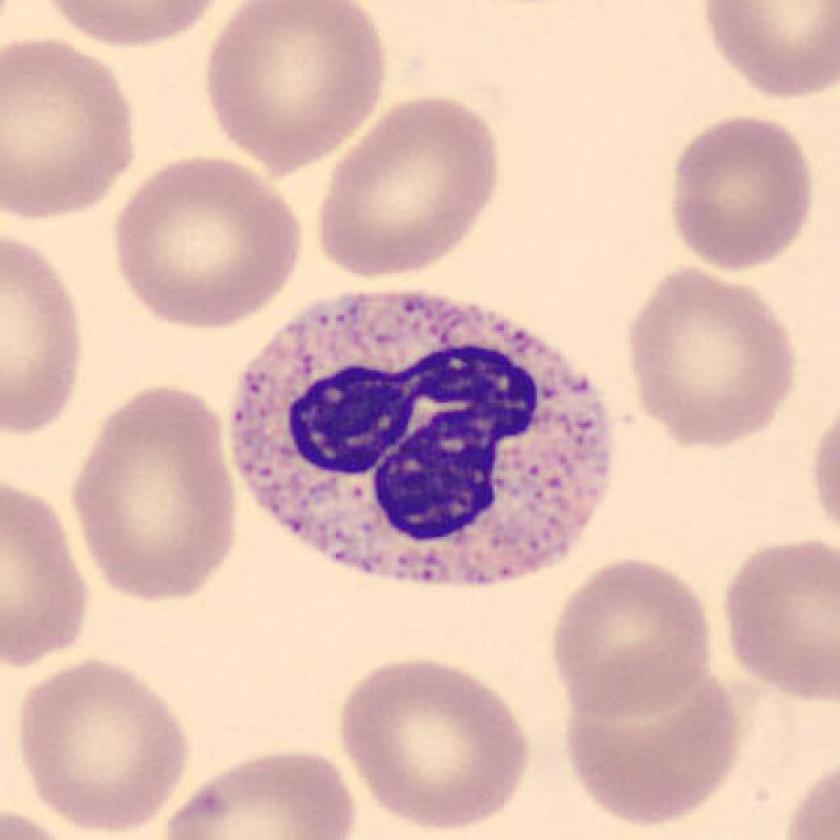neutrophil: (225, 294, 614, 584)
